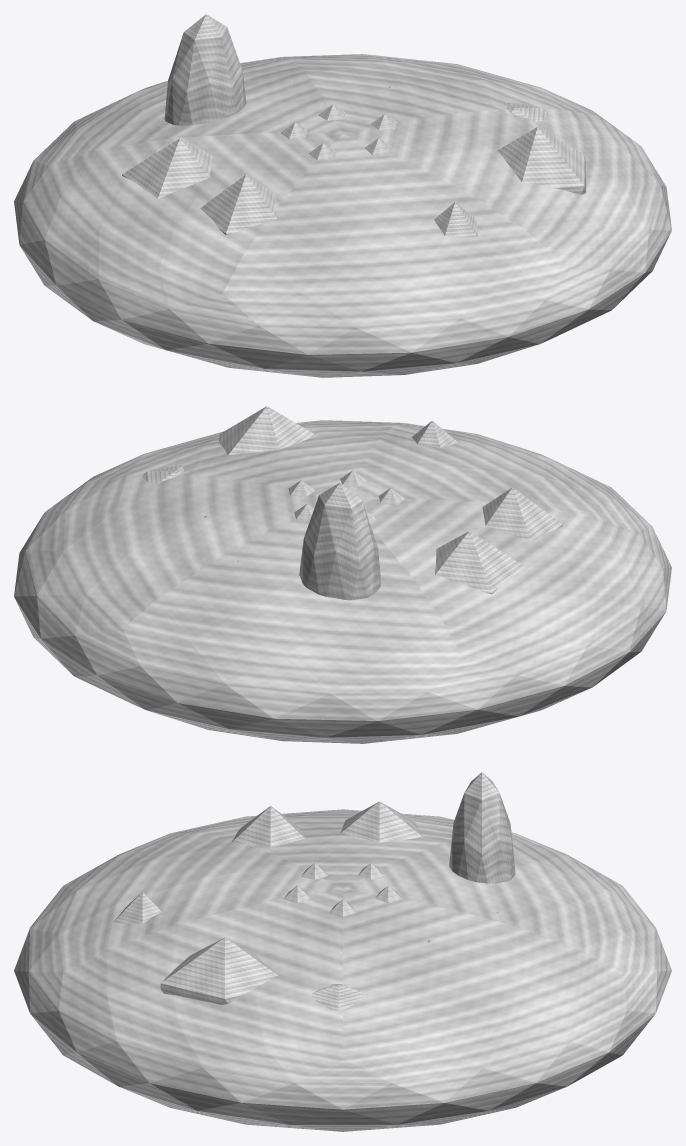
File: bauxite_node_variant_a.glb
3 views of the same model, one above another, from view 1: azimuth 30°, elevation 25°; view 2: azimuth 150°, elevation 25°; view 3: azimuth 270°, elevation 25° (orthographic).
Visible parts, largest first — view 1: Resource node bedrock, Exposed ore formation.004, Exposed ore formation.009, Exposed ore formation.005, Exposed ore formation.006, Exposed ore formation.008; view 2: Resource node bedrock, Exposed ore formation.004, Exposed ore formation.005, Exposed ore formation.009, Exposed ore formation.006, Exposed ore formation.008; view 3: Resource node bedrock, Exposed ore formation.004, Exposed ore formation.009, Exposed ore formation.005, Exposed ore formation.006, Exposed ore formation.001, Exposed ore formation.008.
Boxes of the visible parts, x1=… form: Resource node bedrock: x1=14, y1=54, x2=671, y2=377; Exposed ore formation.004: x1=164, y1=14, x2=246, y2=125; Exposed ore formation.009: x1=497, y1=127, x2=585, y2=194; Exposed ore formation.005: x1=122, y1=138, x2=212, y2=198; Exposed ore formation.006: x1=200, y1=174, x2=276, y2=234; Exposed ore formation.008: x1=434, y1=202, x2=478, y2=238; Resource node bedrock: x1=14, y1=420, x2=671, y2=743; Exposed ore formation.004: x1=299, y1=482, x2=381, y2=600; Exposed ore formation.005: x1=435, y1=531, x2=525, y2=594; Exposed ore formation.009: x1=219, y1=406, x2=317, y2=455; Exposed ore formation.006: x1=482, y1=487, x2=562, y2=540; Exposed ore formation.008: x1=411, y1=420, x2=458, y2=447; Resource node bedrock: x1=14, y1=809, x2=671, y2=1131; Exposed ore formation.004: x1=449, y1=772, x2=515, y2=883; Exposed ore formation.009: x1=160, y1=937, x2=277, y2=1004; Exposed ore formation.005: x1=340, y1=801, x2=423, y2=842; Exposed ore formation.006: x1=231, y1=806, x2=304, y2=847; Exposed ore formation.001: x1=312, y1=984, x2=362, y2=1010; Exposed ore formation.008: x1=112, y1=891, x2=161, y2=923.
Size of what is drawn, in the model's own units: 6.2 by 2.58 by 6.2.
Materials: 2 (2 with a texture image).
